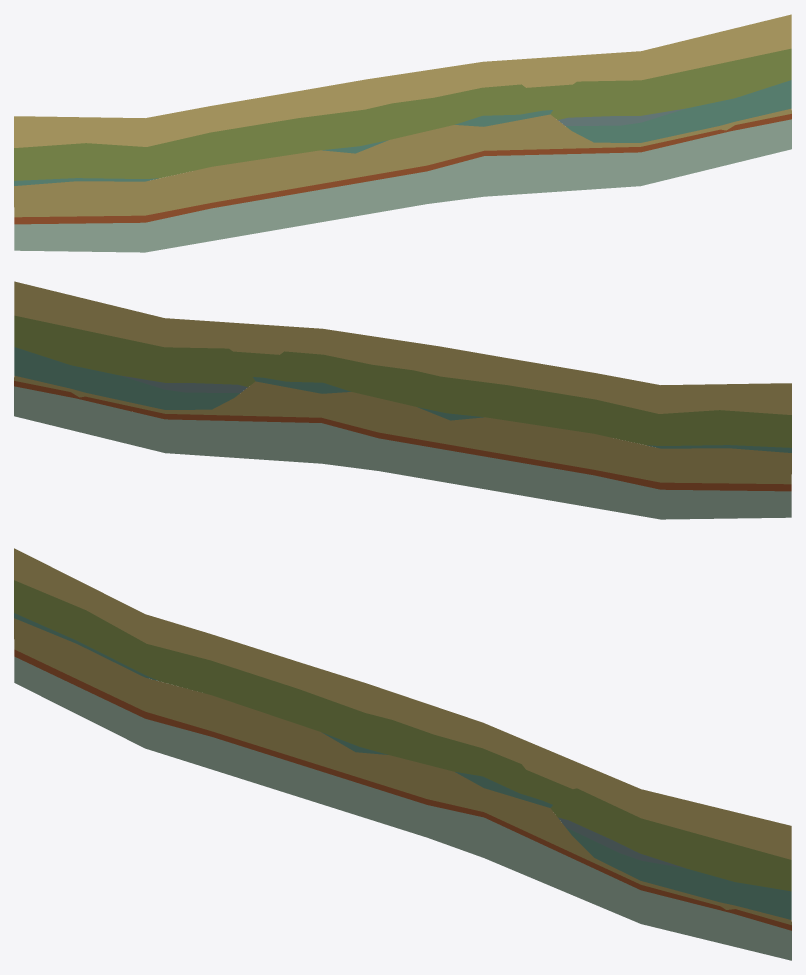
The model's file is ExportedBlenderFBXFile.fbx.
The picture shows the model from 3 angles, top to bottom: view 1: azimuth 30°, elevation 25°; view 2: azimuth 150°, elevation 25°; view 3: azimuth 330°, elevation 25°; orthographic projection.
Parts seen in each view (by area): view 1: Plane_008, Plane, Sand, Saltstone, Sandstone, Plane_004, Plane_009, Plane_005, Plane_007; view 2: Plane_008, Plane, Sand, Saltstone, Sandstone, Plane_004, Plane_009, Plane_005, Plane_007; view 3: Plane_008, Plane, Sand, Saltstone, Sandstone, Plane_004, Plane_009.
Part boxes in pixels (<box>): Plane_008: <box>14,48,791,180</box>; Plane: <box>14,119,791,252</box>; Sand: <box>14,14,791,147</box>; Saltstone: <box>14,108,791,217</box>; Sandstone: <box>14,114,791,224</box>; Plane_004: <box>566,80,791,142</box>; Plane_009: <box>558,108,686,126</box>; Plane_005: <box>455,110,552,126</box>; Plane_007: <box>14,178,158,185</box>; Plane_008: <box>14,315,791,447</box>; Plane: <box>14,386,791,519</box>; Sand: <box>14,281,791,414</box>; Saltstone: <box>14,375,791,484</box>; Sandstone: <box>14,381,791,491</box>; Plane_004: <box>14,347,239,409</box>; Plane_009: <box>119,375,247,393</box>; Plane_005: <box>253,377,350,393</box>; Plane_007: <box>647,445,791,452</box>; Plane_008: <box>14,580,791,891</box>; Plane: <box>14,656,791,960</box>; Sand: <box>14,548,791,859</box>; Saltstone: <box>14,618,791,925</box>; Sandstone: <box>14,649,791,930</box>; Plane_004: <box>566,827,791,919</box>; Plane_009: <box>558,817,685,868</box>.
Size of the model in its own units: 8.42 by 2.31 by 0.
